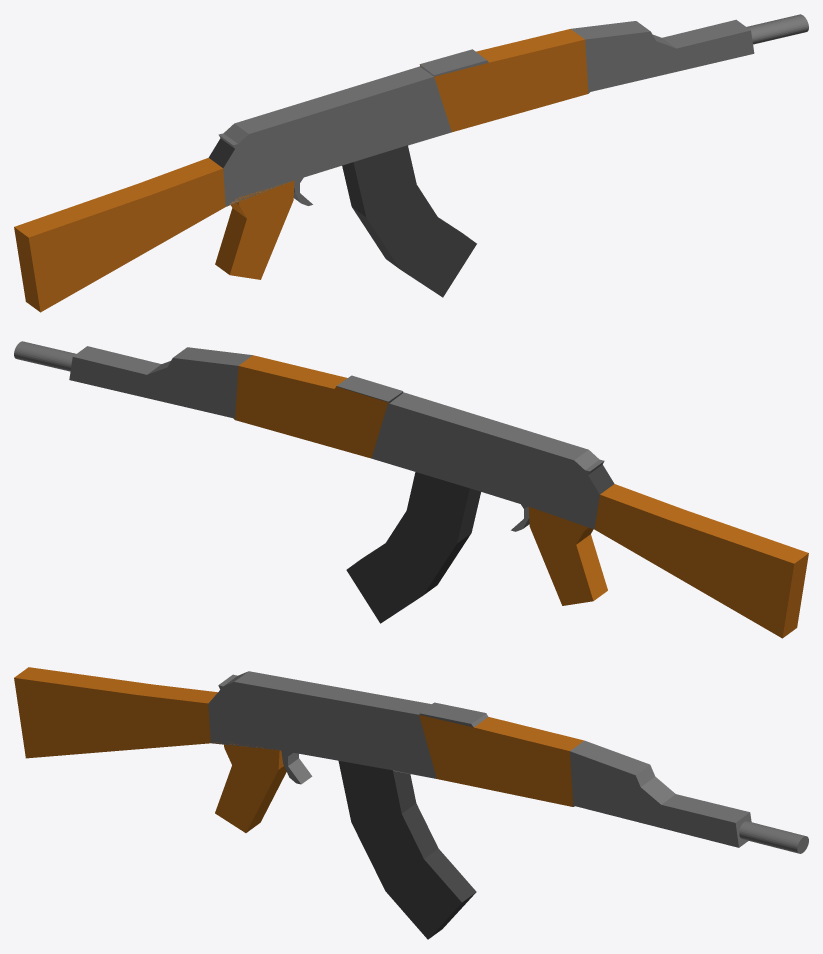
The picture shows the model from 3 angles, top to bottom: view 1: azimuth 30°, elevation 25°; view 2: azimuth 150°, elevation 25°; view 3: azimuth 330°, elevation 25°; orthographic projection.
Visible parts, largest first — view 1: Cube; view 2: Cube; view 3: Cube.
Part boxes in pixels (bbox=[...]): Cube: bbox=[14, 14, 808, 312]; Cube: bbox=[14, 341, 808, 638]; Cube: bbox=[14, 667, 808, 939].
Size of the model in its own units: 4.32 by 1.2 by 0.1469.
